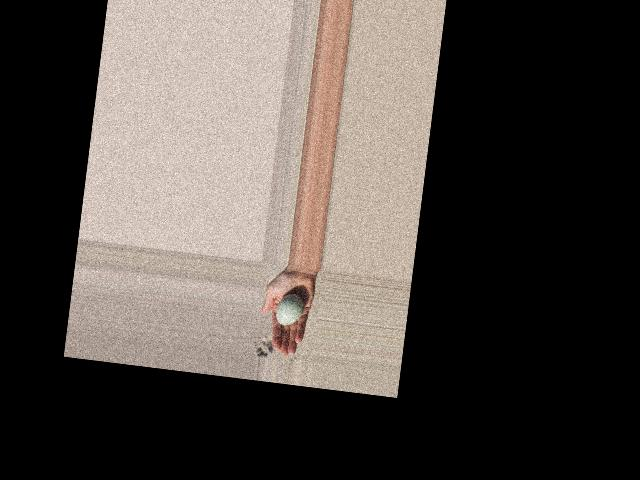egg: (275, 293, 305, 327)
